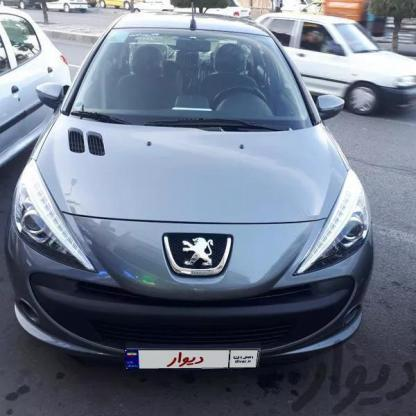Car: (10, 14, 360, 383), (251, 4, 416, 111), (0, 9, 48, 160)
